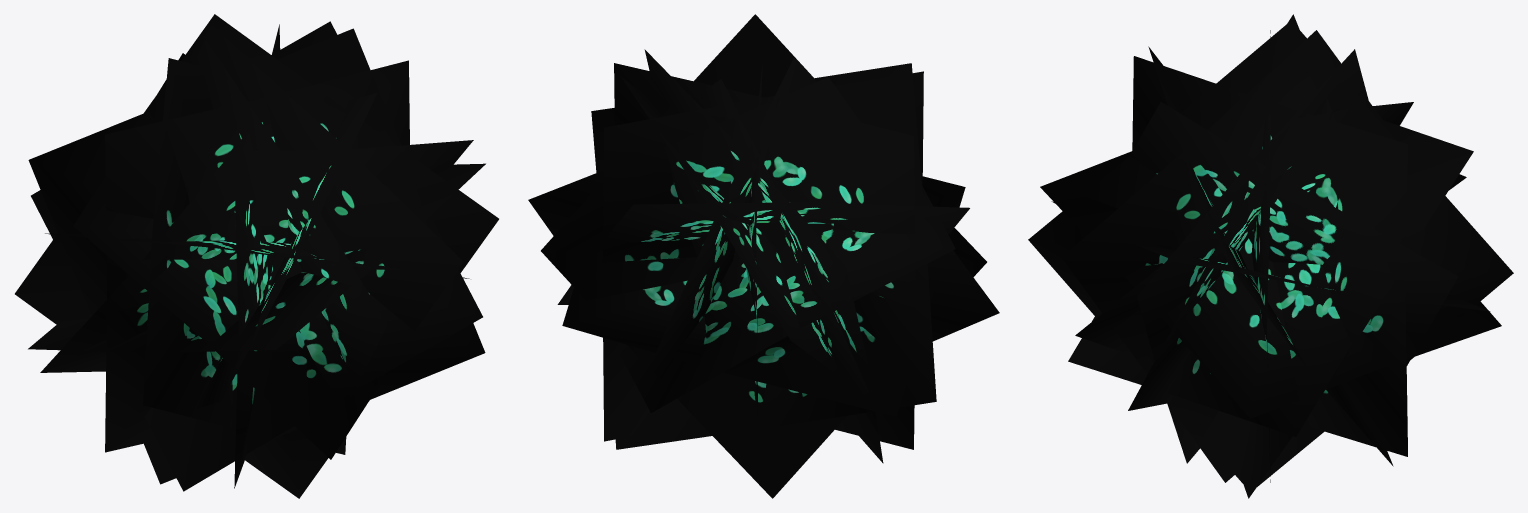
File: Bush_01_GR.fbx
The picture shows the model from 3 angles, left to right: view 1: azimuth 30°, elevation 25°; view 2: azimuth 150°, elevation 25°; view 3: azimuth 270°, elevation 25°; orthographic projection.
Parts seen in each view (by area): view 1: Bush_01; view 2: Bush_01; view 3: Bush_01.
Part boxes in pixels (box(x1,y1,x2,y2)): Bush_01: box(15, 14, 498, 498); Bush_01: box(528, 14, 999, 498); Bush_01: box(1028, 14, 1513, 498).
Size of the model in its own units: 1.35 by 1.38 by 1.41.
Materials: 1 (1 with a texture image).
